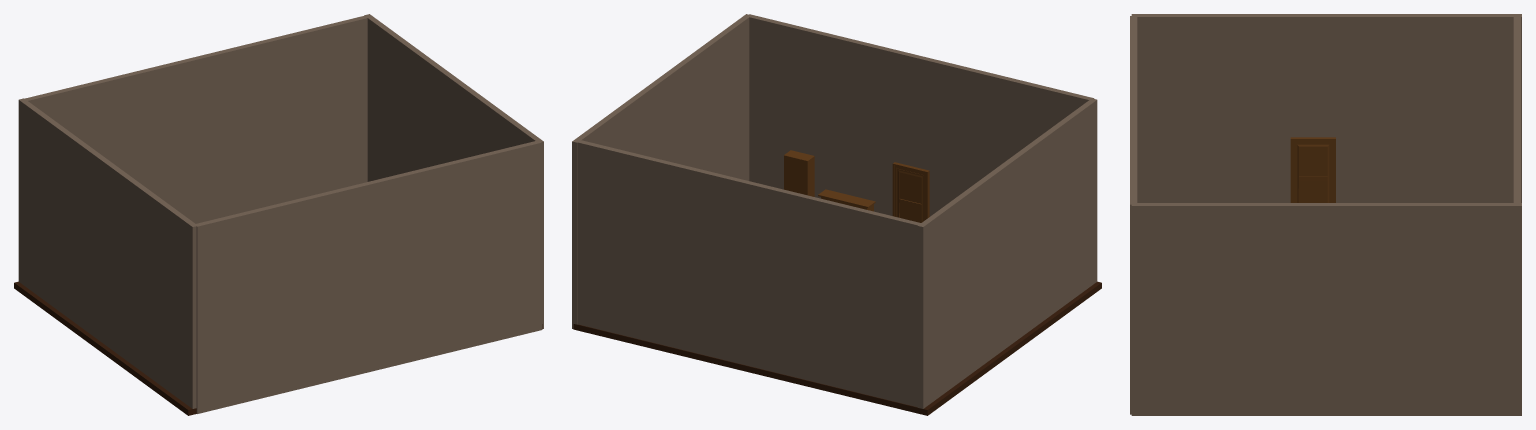
File: pared.fbx
3 views of the same model, side by side, from view 1: azimuth 30°, elevation 25°; view 2: azimuth 150°, elevation 25°; view 3: azimuth 270°, elevation 25° (orthographic). The views are drawn at different scales.
Parts seen in each view (by area): view 1: Cube.007, Cube.006; view 2: Cube.007, Cube.006, Cube.003, Cube.005, Cube.001; view 3: Cube.007, Cube.004.
Boxes of the visible parts, x1,y1,x2,y2 form: Cube.007: [18, 14, 543, 413]; Cube.006: [14, 281, 542, 415]; Cube.007: [572, 14, 1097, 408]; Cube.006: [573, 281, 1101, 415]; Cube.003: [892, 162, 929, 222]; Cube.005: [784, 150, 814, 196]; Cube.001: [818, 189, 875, 211]; Cube.007: [1130, 14, 1521, 415]; Cube.004: [1290, 137, 1335, 202].
Bounding box in the file's own units: 29009 × 14638 × 24710.
